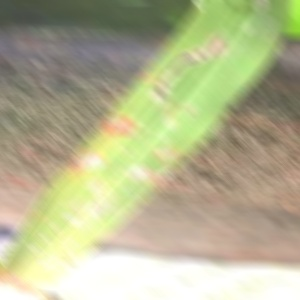Brown_Spot: (147, 28, 228, 97), (66, 144, 109, 176), (121, 158, 164, 187), (100, 108, 134, 141), (148, 137, 177, 168)
